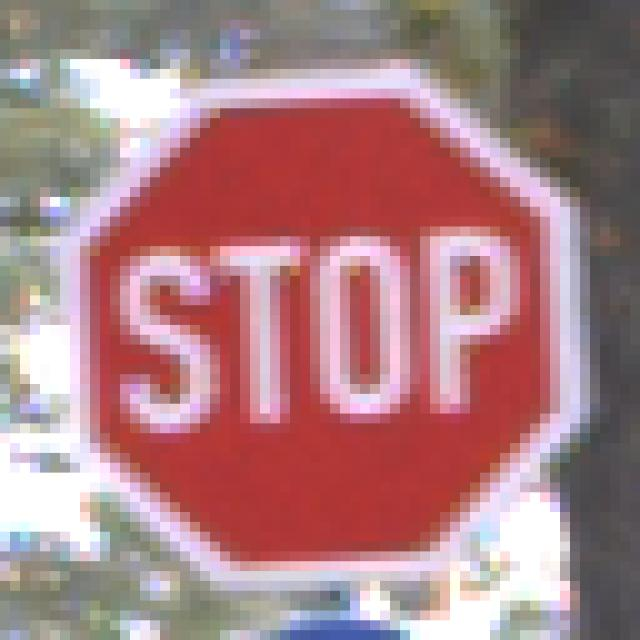STOP: (51, 60, 591, 592)
